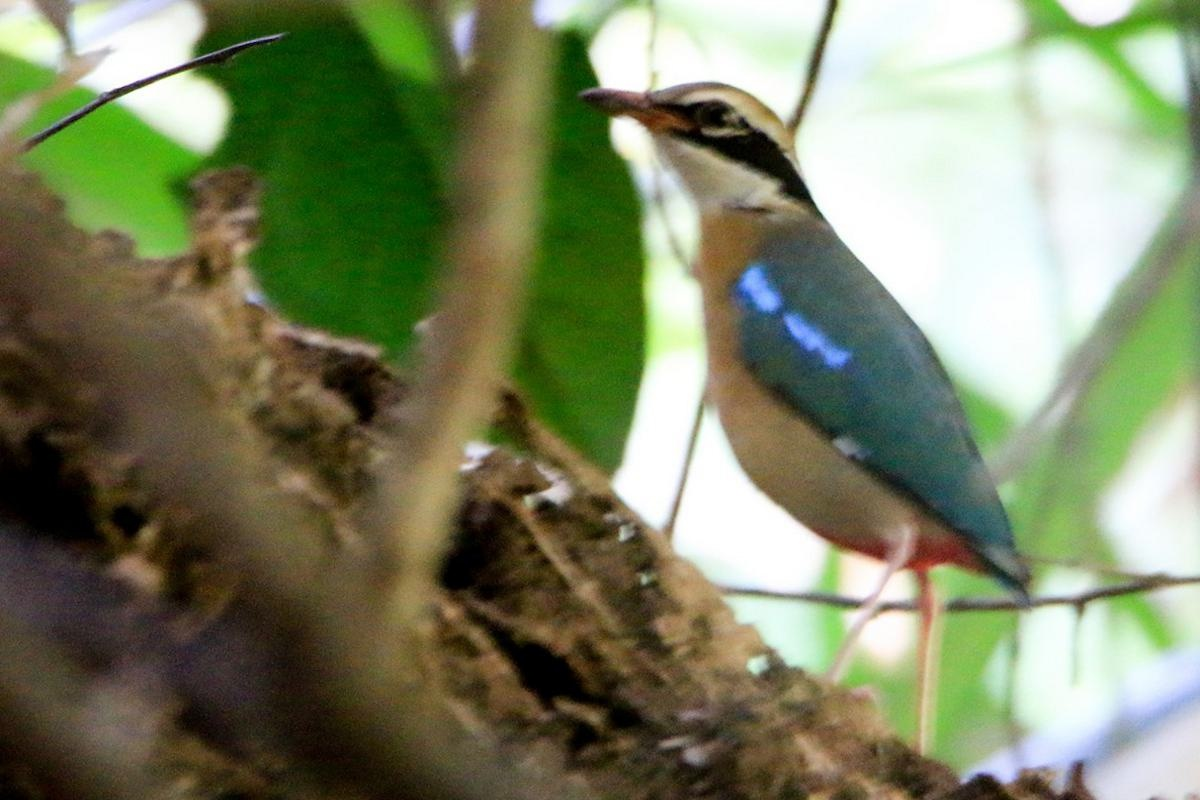pitta: (606, 58, 1058, 700)
